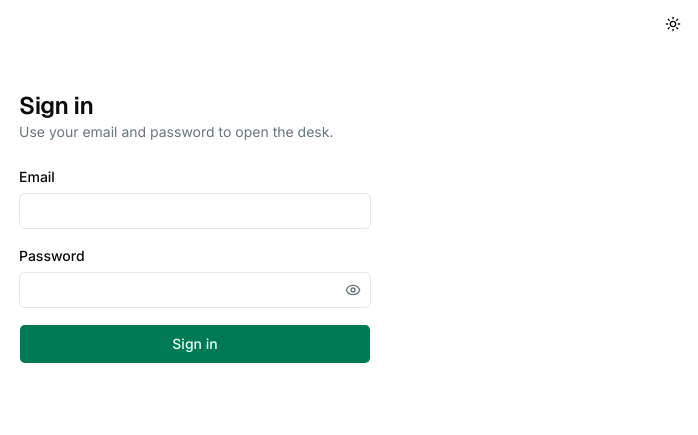
Test: login › shows the API error, focuses it and stays on the page
Type "me@example.com" into the field labelled "Email".
click(195, 211); type("me@example.com")  # box [19,193,371,229]
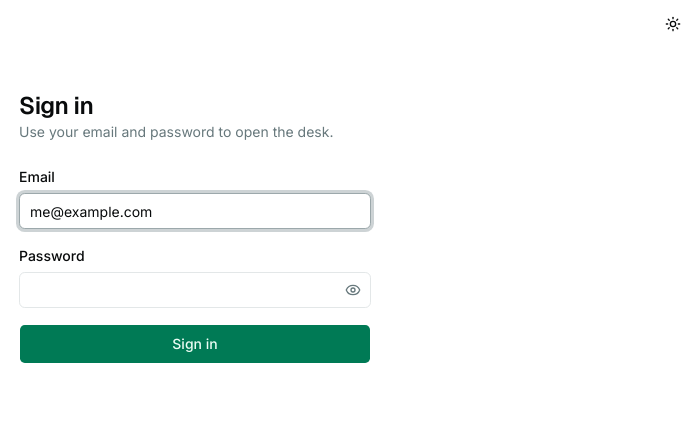
Type "correct horse battery" into the password field labelled "Password".
click(195, 290); type("correct horse battery")  # box [19,272,371,308]
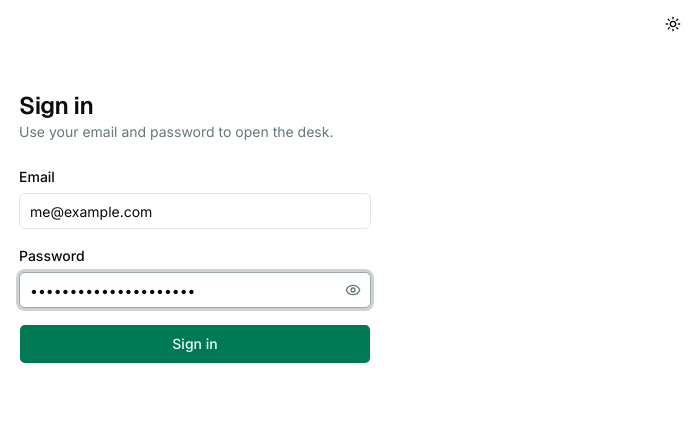
Click the button "Sign in".
click(195, 344)  # box [19,324,371,364]
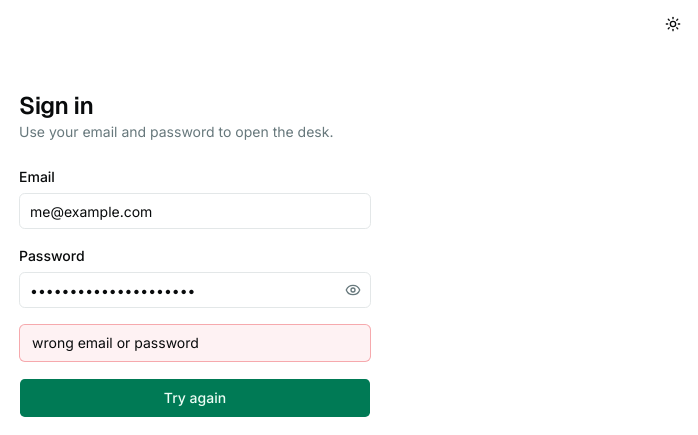
Expected: the button "Try again" is enabled, [19,378,371,418]
Expected: the message reads "wrong email or password", [32,334,199,351]
